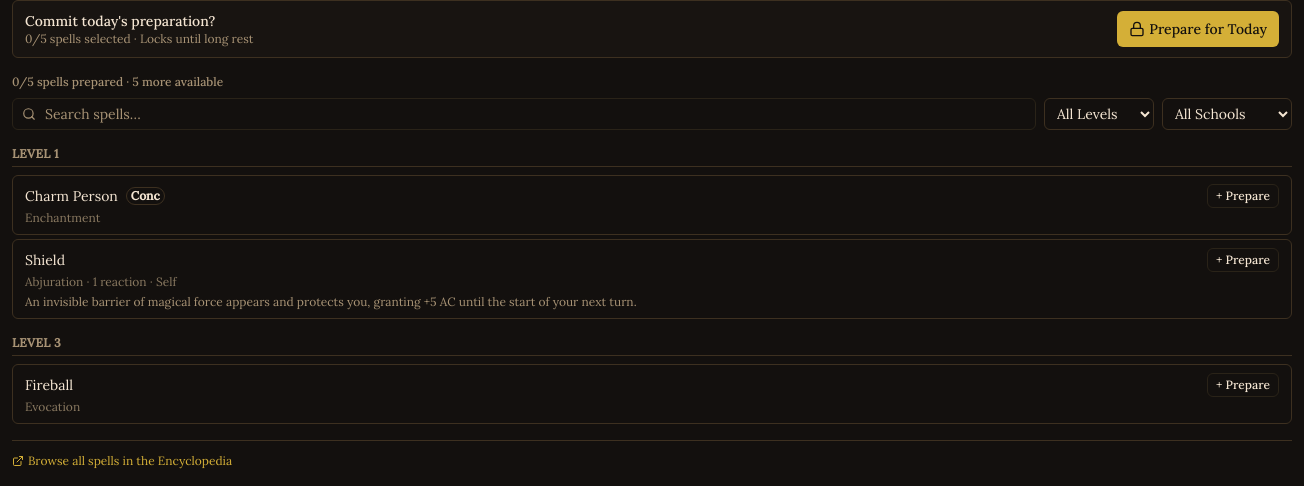
it: school filter dropdown › empty state names the filtered school
Expected: the text "Charm Person" is shown, left=25, top=186, right=118, bottom=206
Select "Enchantment" in the dropdown with test id "spell-school-filter" at [1227, 114], box left=1162, top=98, right=1292, bottom=130
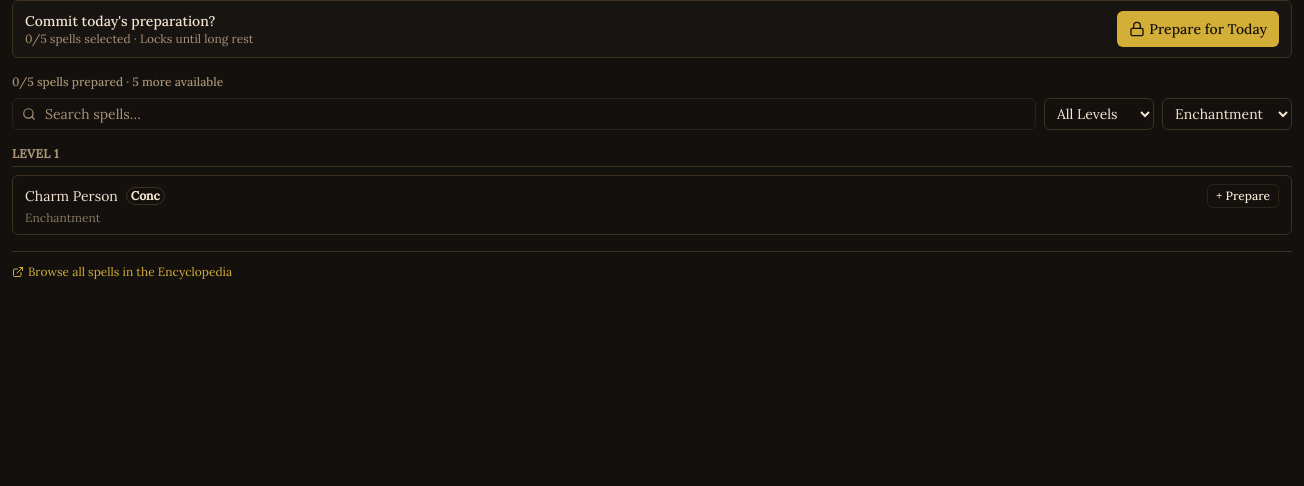
Select "Level 3" in the 1st dropdown at [1099, 114], box left=1044, top=98, right=1154, bottom=130
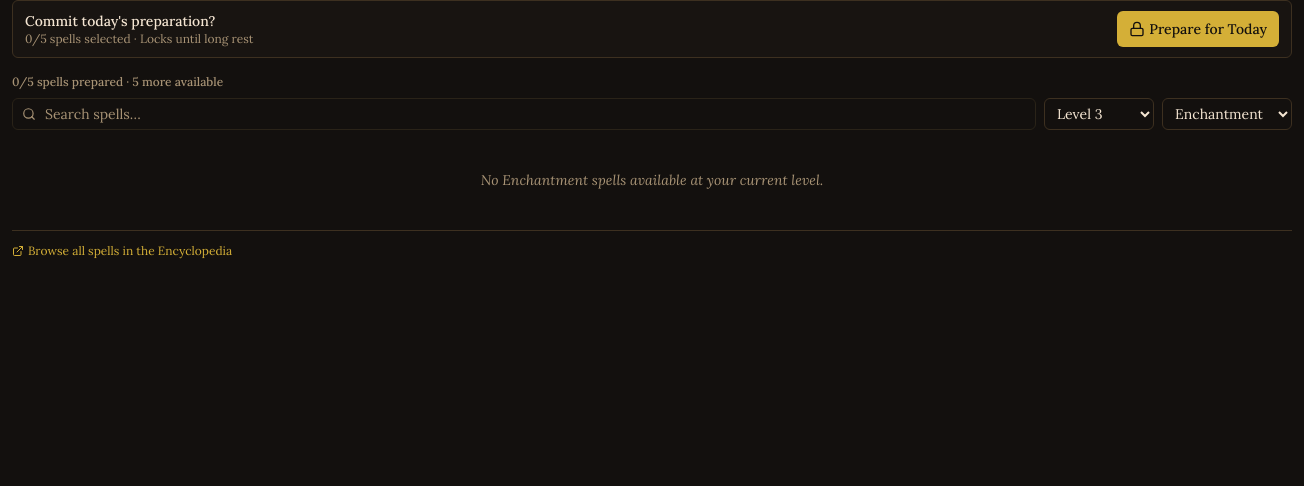
Now the text "No Enchantment spells available at your current level." is shown, box left=481, top=171, right=823, bottom=189
